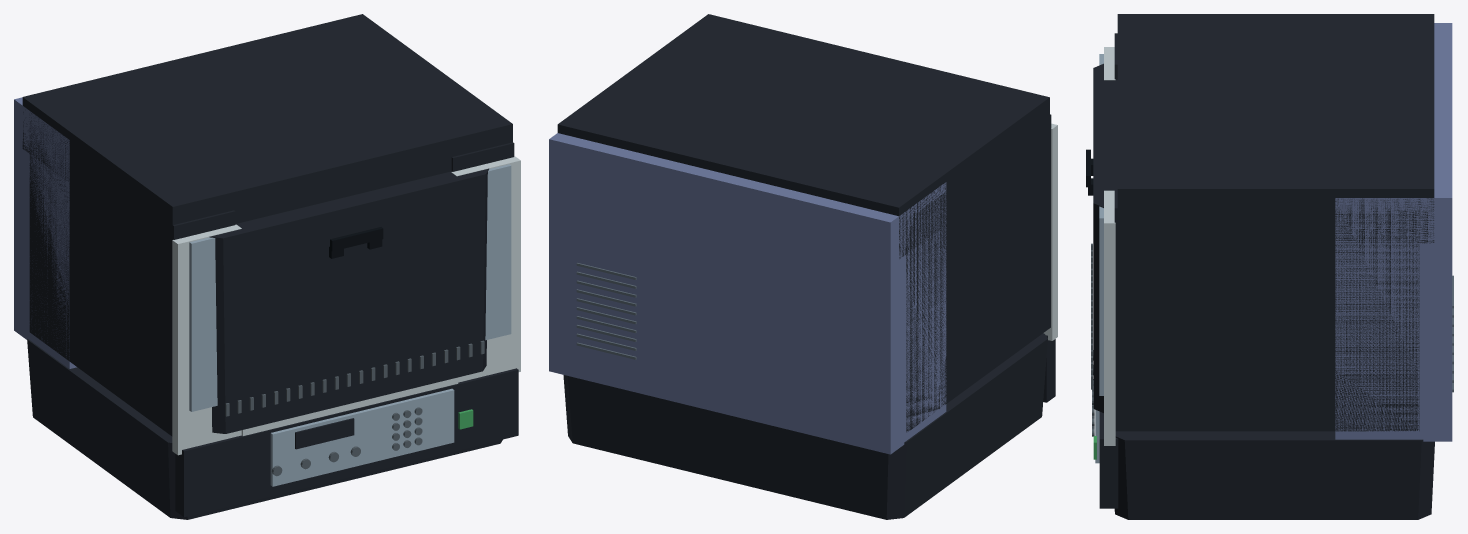
The model's file is vulcan-3-1750.glb.
The picture shows the model from 3 angles, left to right: view 1: azimuth 30°, elevation 25°; view 2: azimuth 150°, elevation 25°; view 3: azimuth 270°, elevation 25°; orthographic projection. The views are drawn at different scales.
Visible parts, largest first — view 1: cabinet, visual_door, front_panel, frame, base; view 2: cabinet, base, rear_features, frame, front_panel; view 3: cabinet, base, visual_door, frame, front_panel.
Part boxes in pixels (box(x1,y1,x2,y2)): cabinet: box(14, 14, 514, 436); visual_door: box(209, 168, 488, 433); front_panel: box(175, 368, 518, 517); frame: box(172, 156, 520, 455); base: box(27, 339, 502, 519); cabinet: box(549, 14, 1051, 454); base: box(563, 333, 1047, 519); rear_features: box(576, 263, 636, 359); frame: box(1043, 123, 1057, 340); front_panel: box(1043, 335, 1055, 402); cabinet: box(1114, 14, 1452, 441); base: box(1114, 431, 1434, 519); visual_door: box(1086, 63, 1117, 412); frame: box(1099, 47, 1115, 445); front_panel: box(1092, 350, 1118, 508).
Bounding box in the file's own units: 0.61 × 0.545 × 0.5375.
